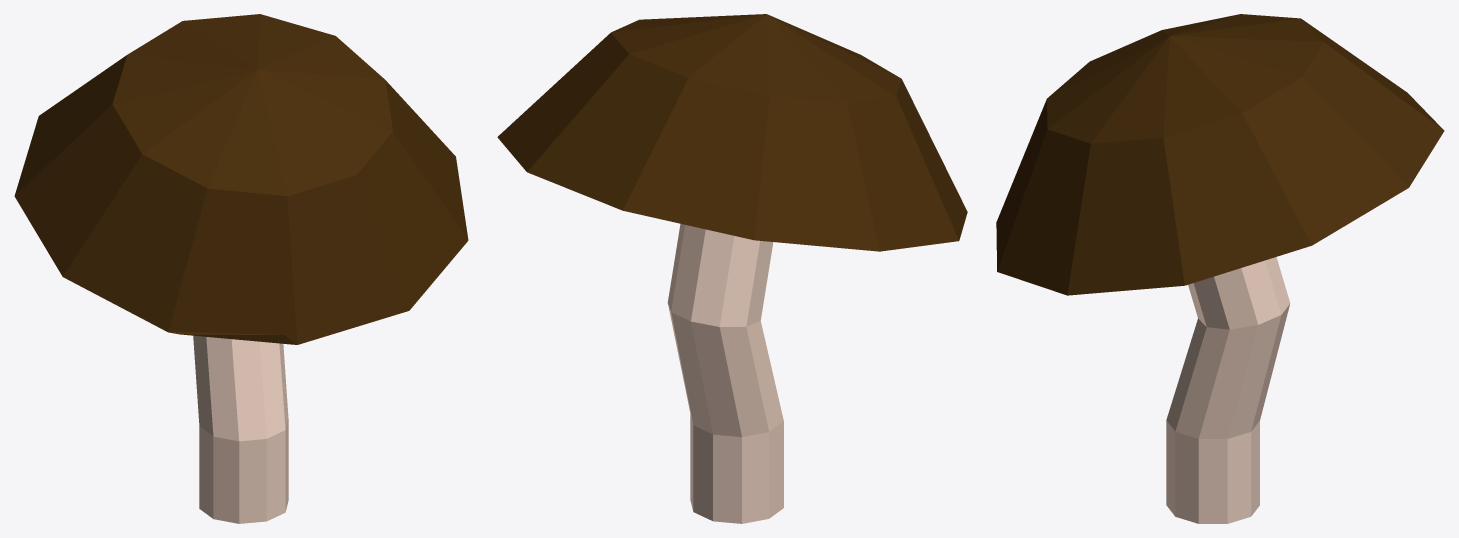
Rendered from mushroom.fbx.
3 renders of one model, left to right at view 1: azimuth 30°, elevation 25°; view 2: azimuth 150°, elevation 25°; view 3: azimuth 270°, elevation 25°, orthographic. The views are drawn at different scales.
Visible parts, largest first — view 1: Sphere, Cylinder; view 2: Sphere, Cylinder; view 3: Sphere, Cylinder.
Boxes of the visible parts, left/top/right/bottom form: Sphere: left=14, top=14, right=468, bottom=344; Cylinder: left=193, top=335, right=288, bottom=523; Sphere: left=497, top=14, right=967, bottom=251; Cylinder: left=667, top=223, right=783, bottom=523; Sphere: left=996, top=14, right=1444, bottom=295; Cylinder: left=1166, top=257, right=1290, bottom=523.
Size of the model in its own units: 188 by 206 by 180.
